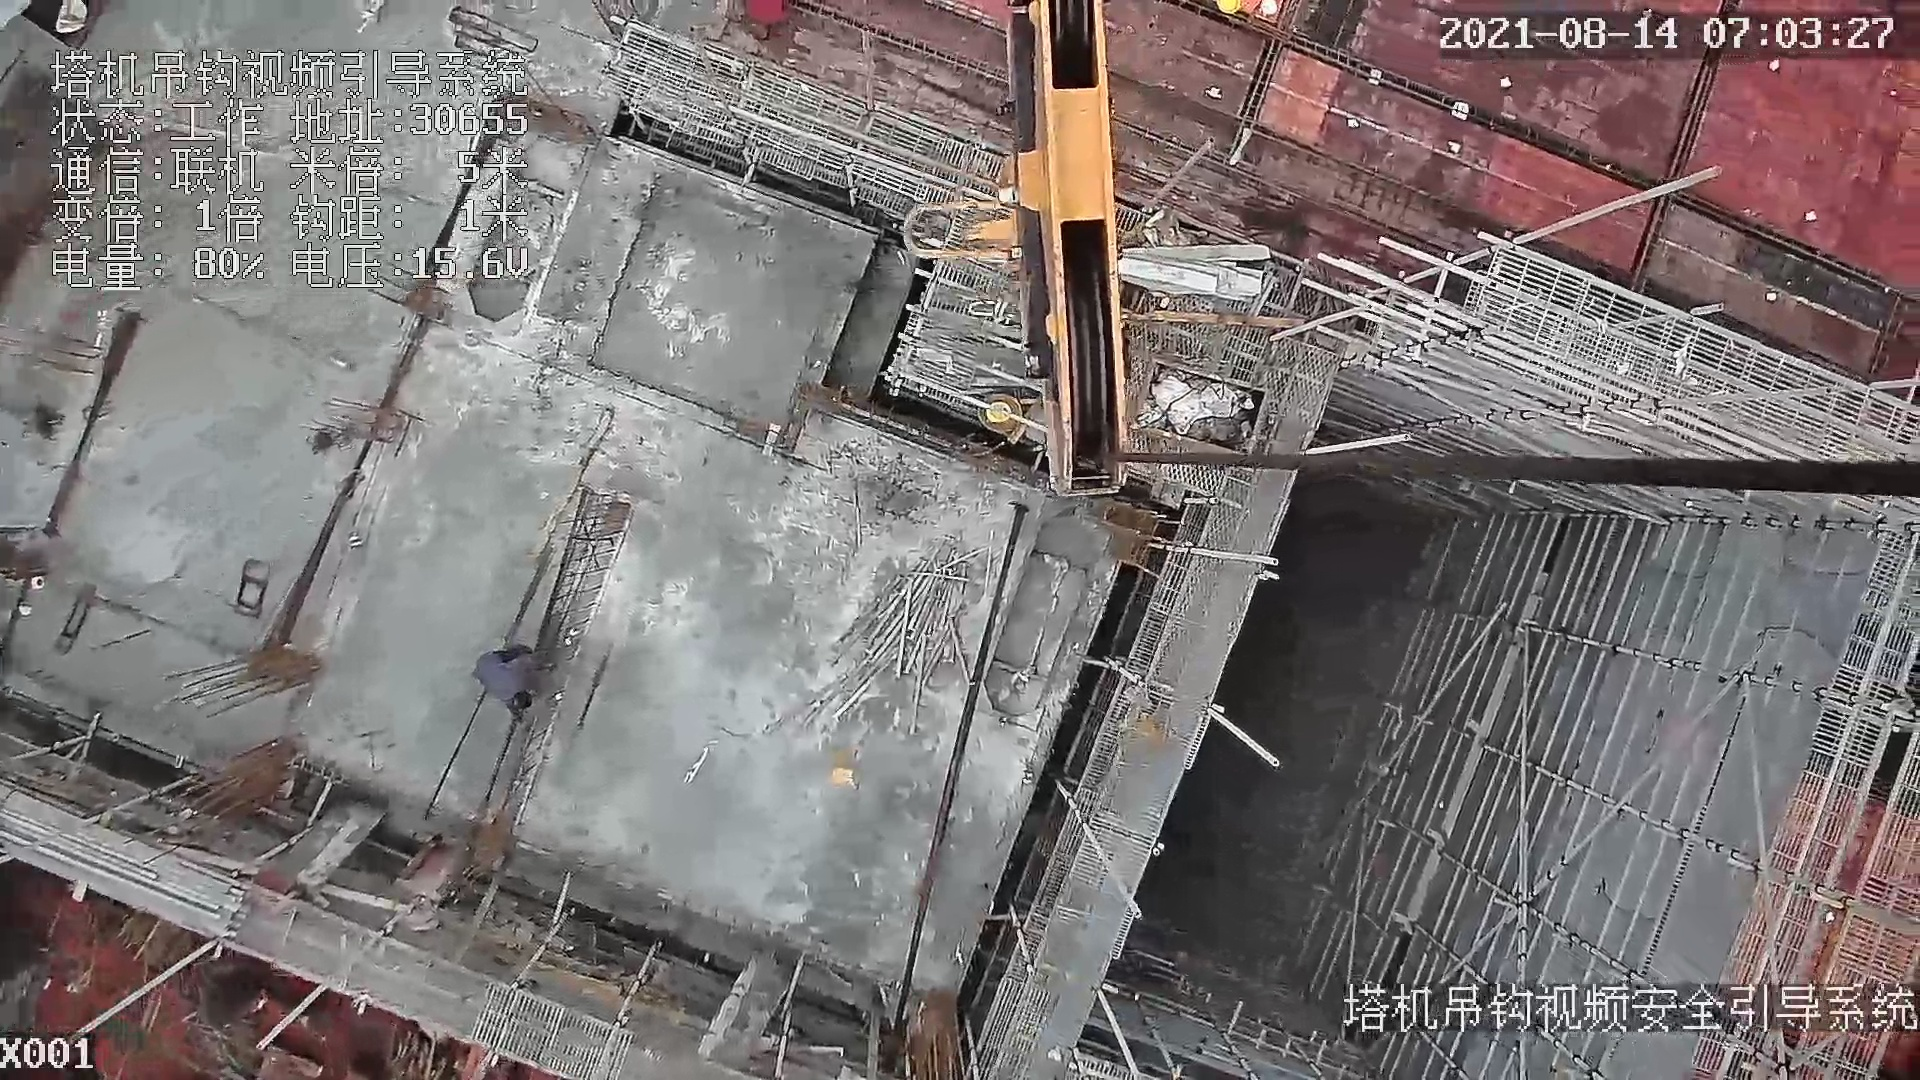hook: (905, 1, 1141, 506)
person: (473, 640, 553, 718)
